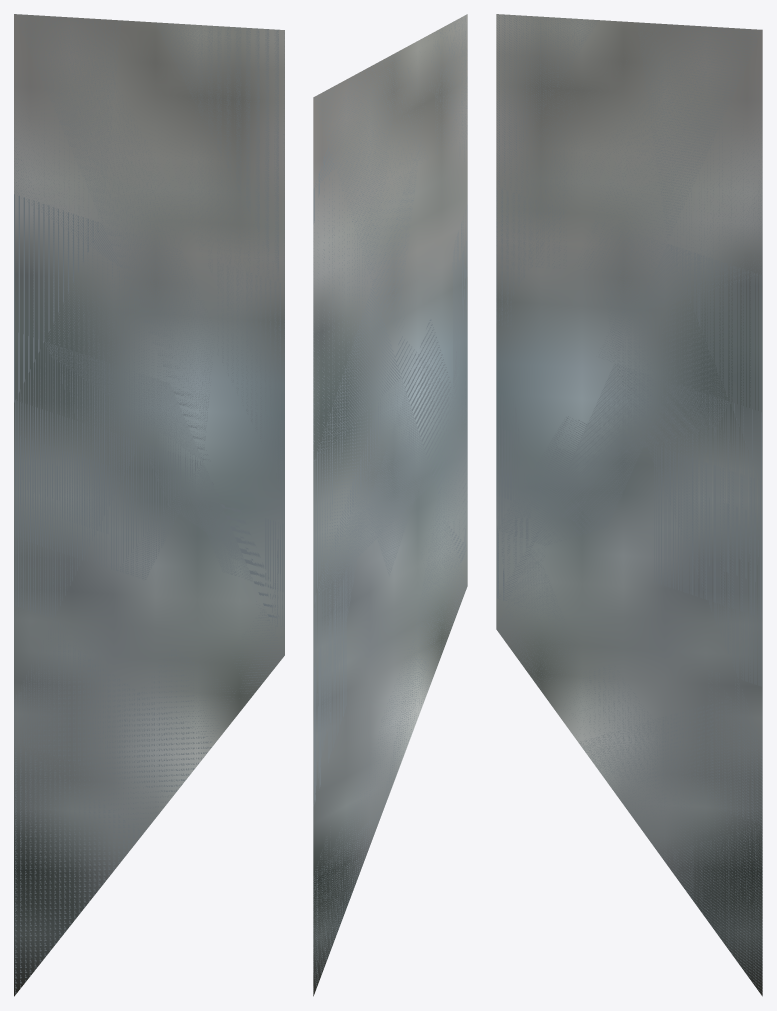
The model's file is 西庸城堡251.dae.
3 renders of one model, left to right at view 1: azimuth 90°, elevation 25°; view 2: azimuth 150°, elevation 25°; view 3: azimuth 270°, elevation 25°, orthographic. The views are drawn at different scales.
Visible parts, largest first — view 1: SketchUp; view 2: SketchUp; view 3: SketchUp.
Boxes of the visible parts, left/top/right/bottom form: SketchUp: left=14, top=14, right=284, bottom=996; SketchUp: left=313, top=14, right=467, bottom=996; SketchUp: left=496, top=14, right=762, bottom=996.
Bounding box in the file's own units: 1.54 × 10.98 × 43.94.
